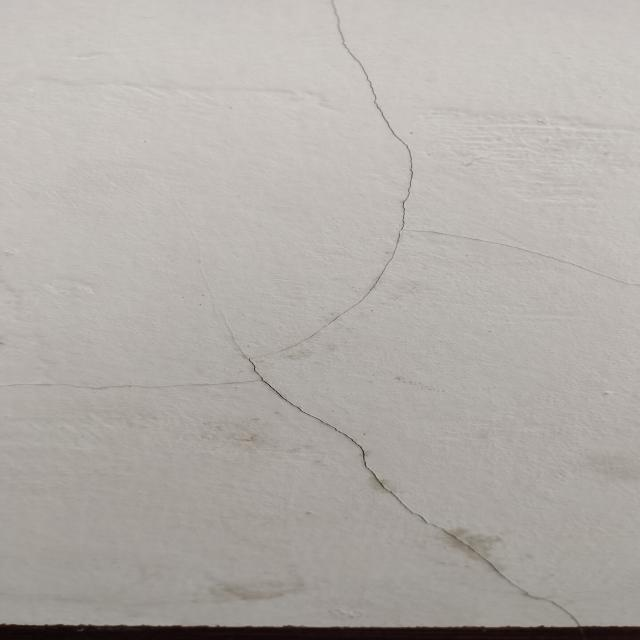Crack: (238, 1, 585, 622)
